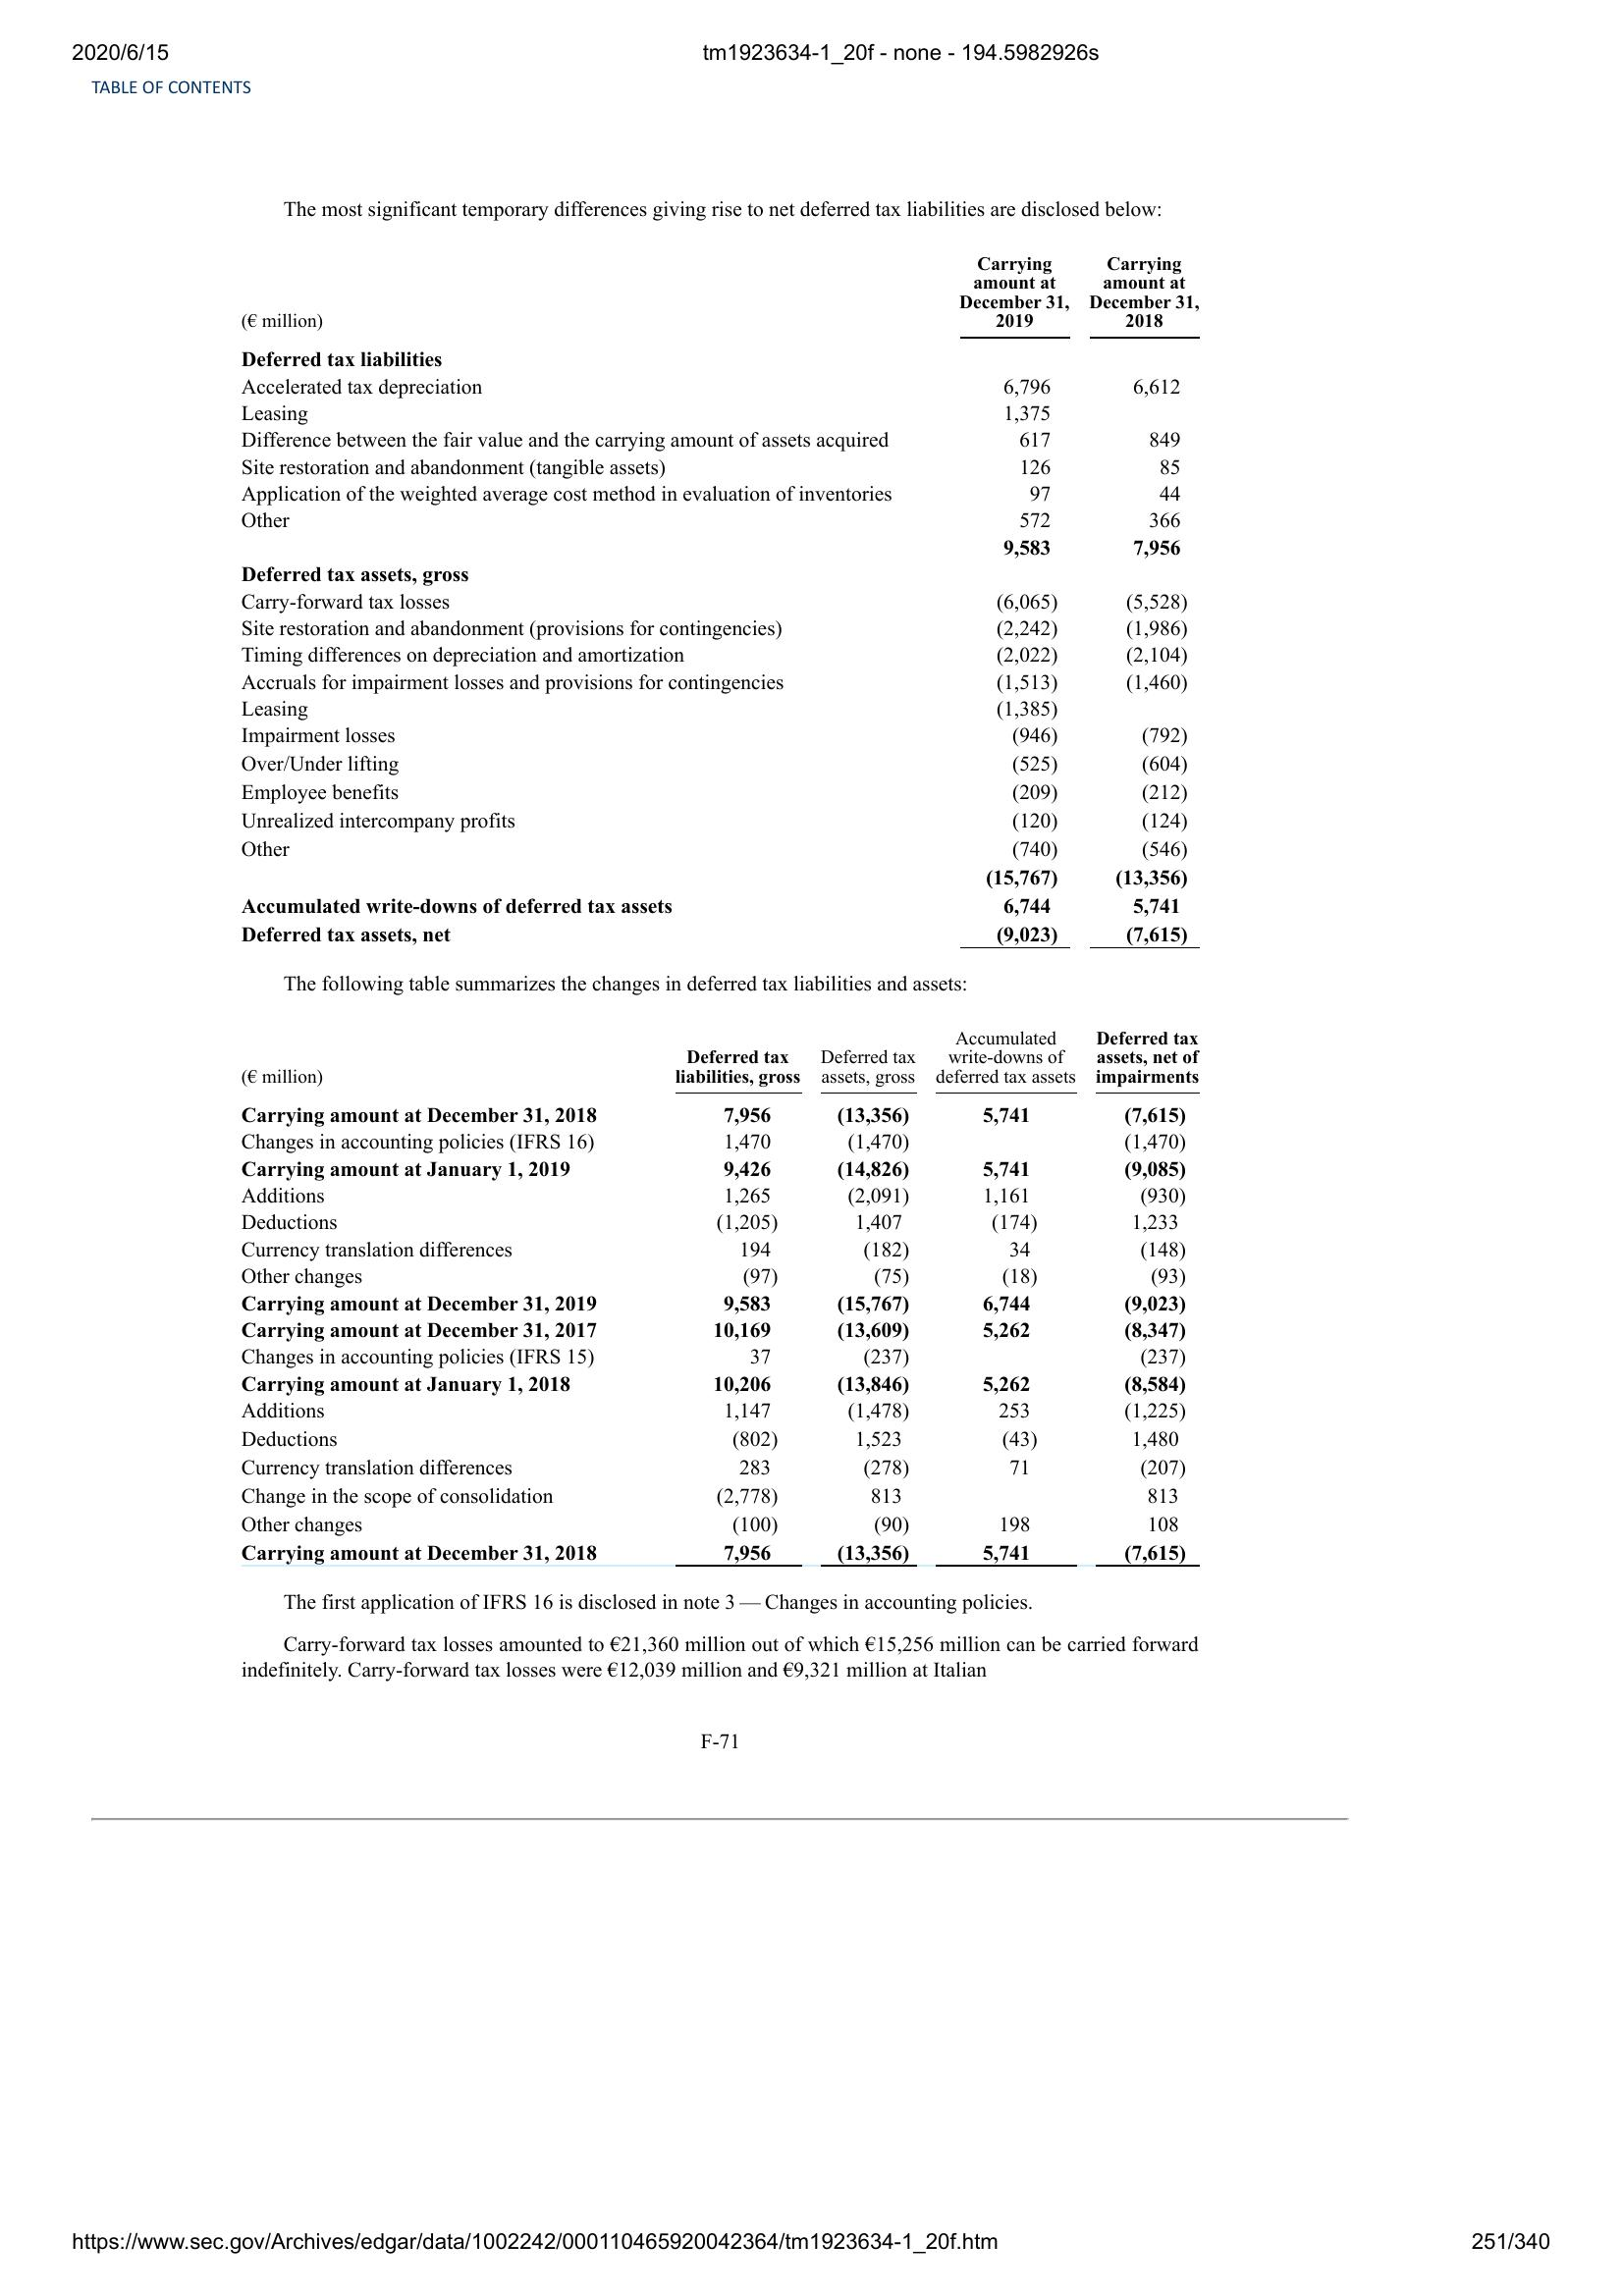table: (230, 251, 1200, 957), (234, 1025, 1208, 1576)
